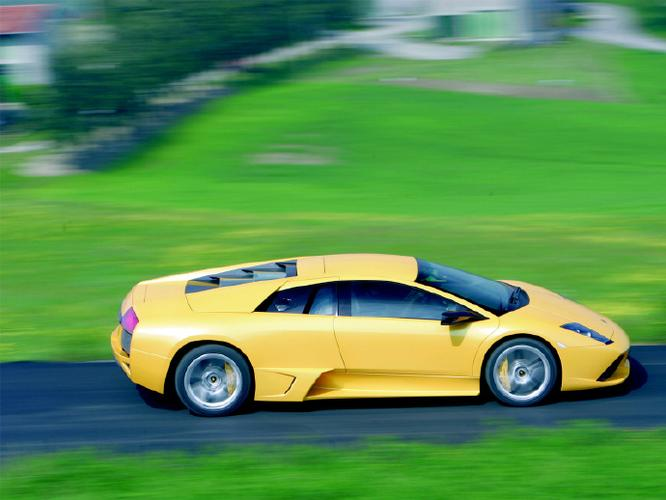汽车: (91, 250, 647, 416)
